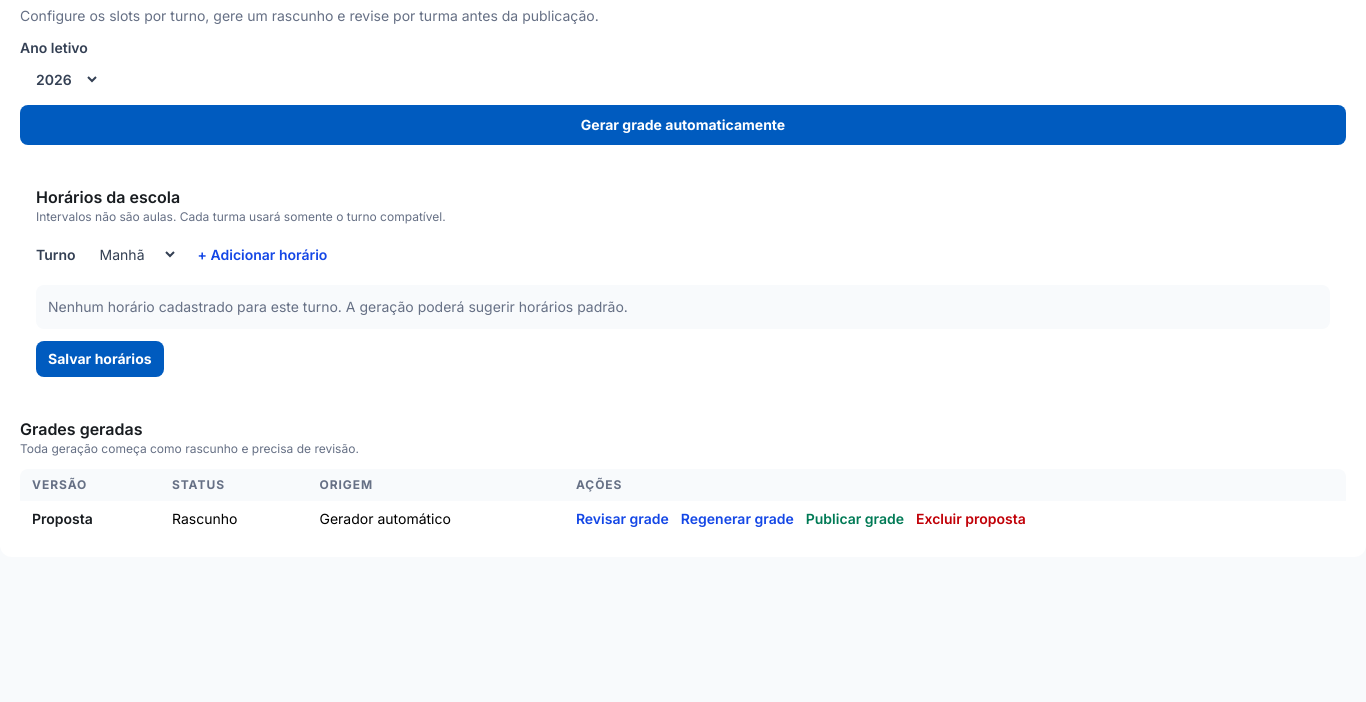
Scenario: TimetableAutomationPanel › exibe o rascunho por turma e permite marcar uma aula como fixa
Click the button "Revisar grade" at (622, 519), box x1=576 y1=509 x2=669 y2=529
(page scrolled)
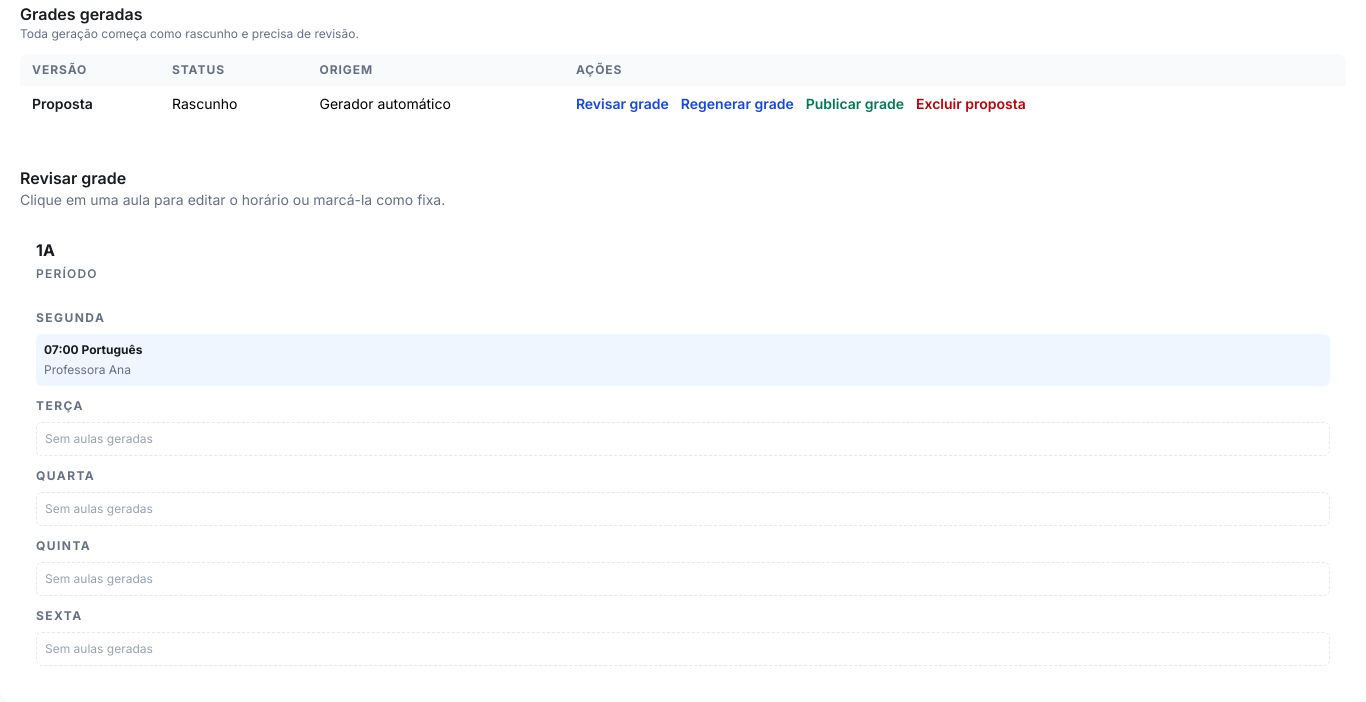
Click the button named "07:00 PortuguêsProfessora Ana" at (61, 350), box x1=36 y1=334 x2=1330 y2=386
(page scrolled)
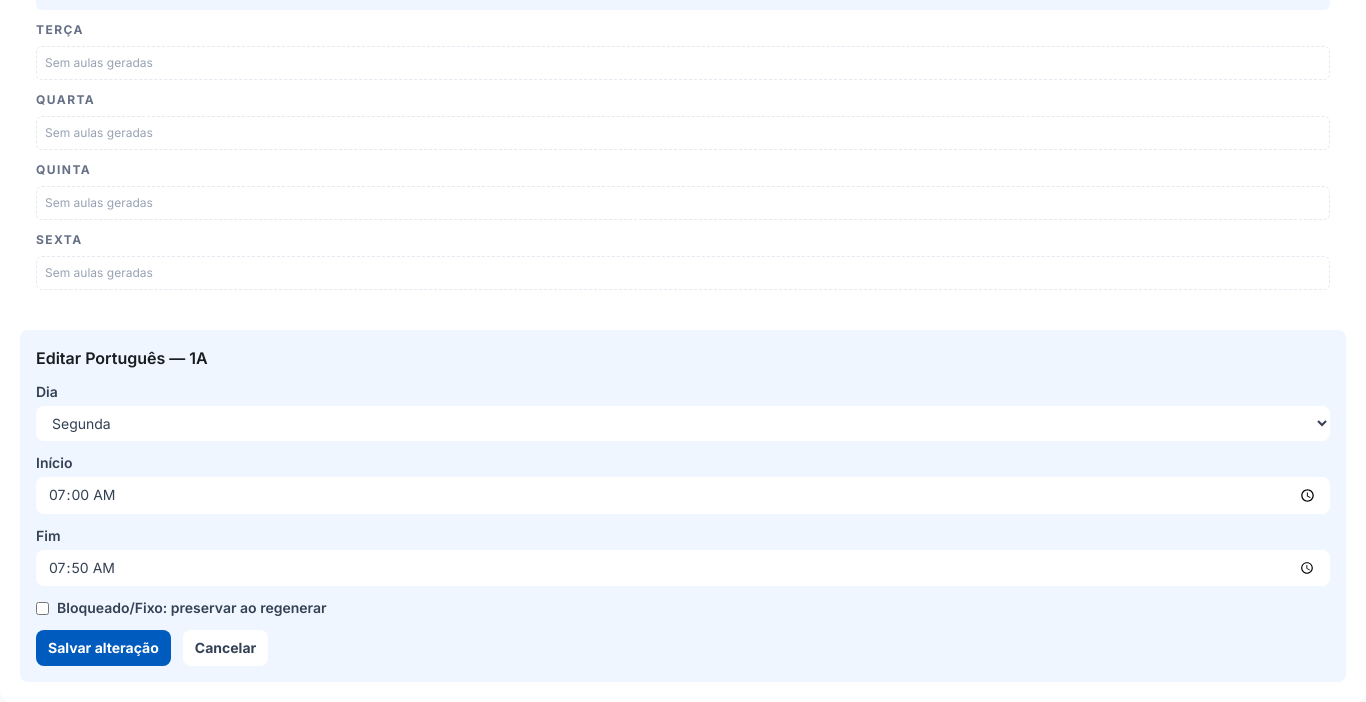
Result: the text "Bloqueado/Fixo: preservar ao regenerar" is shown at x1=36 y1=599 x2=327 y2=616
Result: the checkbox is shown at x1=36 y1=602 x2=49 y2=615
